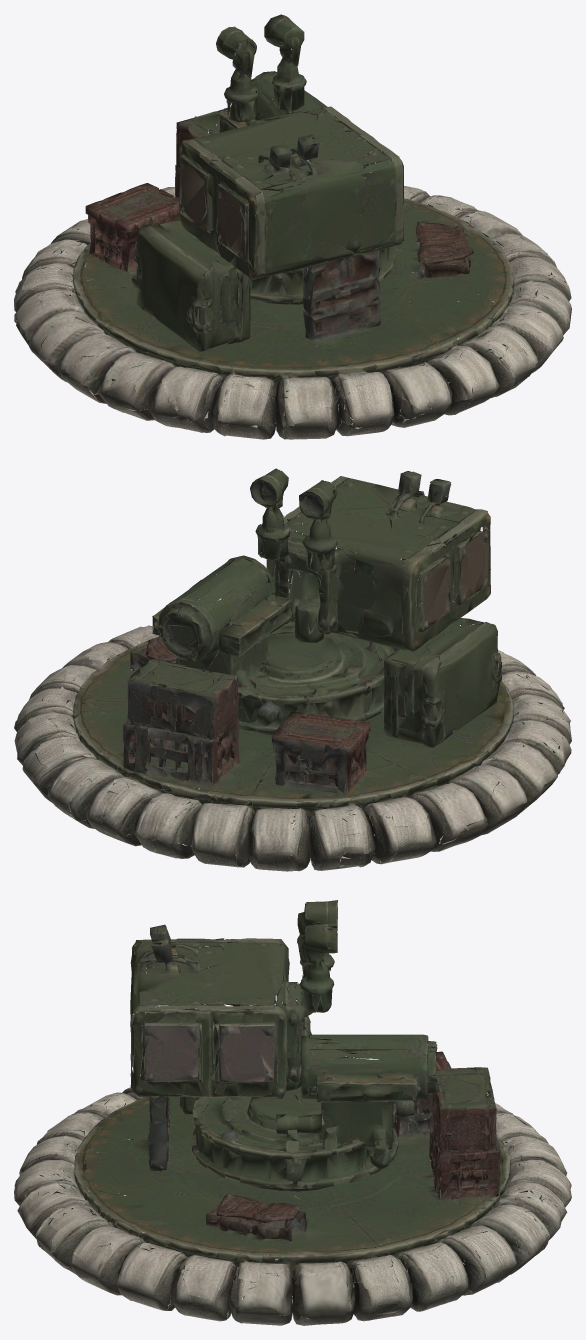
The model's file is flak_nest.glb.
3 renders of one model, top to bottom at view 1: azimuth 30°, elevation 25°; view 2: azimuth 150°, elevation 25°; view 3: azimuth 270°, elevation 25°, orthographic.
Parts seen in each view (by area): view 1: Mesh_0; view 2: Mesh_0; view 3: Mesh_0.
Part boxes in pixels (<box>): Mesh_0: <box>14,14,571,439</box>; Mesh_0: <box>14,468,571,871</box>; Mesh_0: <box>14,900,571,1325</box>.
Size of the model in its own units: 1.9 by 1.14 by 1.91.
Materials: 1 (1 with a texture image).
